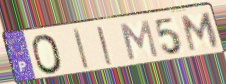5: (154, 15, 184, 57)
I: (95, 25, 116, 67), (71, 27, 91, 71)
M: (119, 19, 161, 63), (180, 11, 221, 54)
O: (30, 32, 66, 75)
